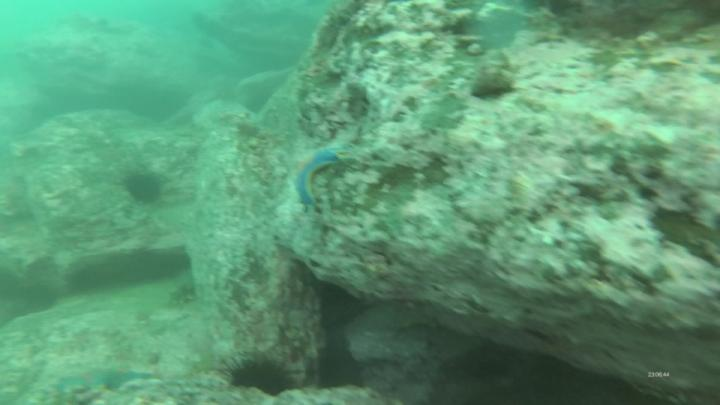echinus: (227, 355, 304, 398), (123, 165, 170, 208)
holothurian: (166, 282, 200, 309)
starfish: (296, 140, 344, 209), (54, 364, 157, 395)
